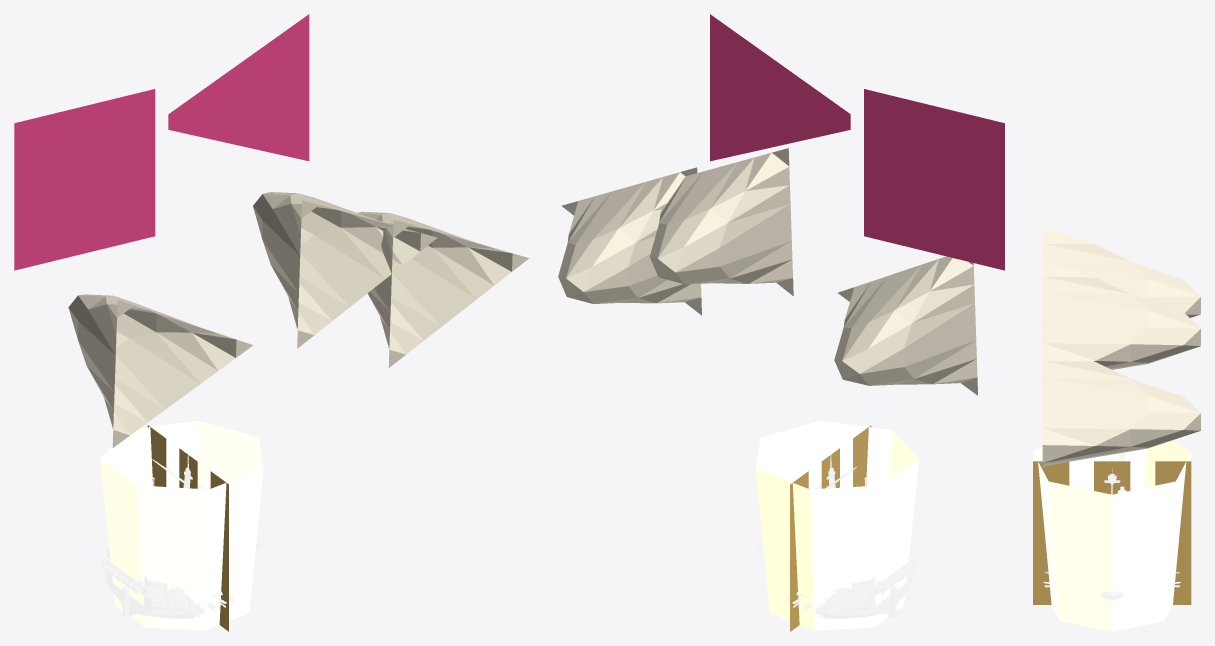
File: navire-chebec.glb
3 renders of one model, left to right at view 1: azimuth 30°, elevation 25°; view 2: azimuth 150°, elevation 25°; view 3: azimuth 270°, elevation 25°, orthographic. The views are drawn at different scales.
Parts seen in each view (by area): view 1: navire_lumieres.004, drapeau.009, voile_artimon.008, voile_grande.009, flamme.009, voile_misaine.009, navire_corps.009, navire_vitres.004; view 2: navire_lumieres.004, drapeau.009, voile_grande.009, voile_artimon.008, voile_misaine.009, flamme.009, navire_corps.009, navire_vitres.004; view 3: navire_lumieres.004, voile_misaine.009, voile_grande.009, navire_vitres.004, voile_artimon.008, navire_corps.009.
Boxes of the visible parts, bbox=[...] form: navire_lumieres.004: bbox=[100, 420, 263, 630]; drapeau.009: bbox=[14, 89, 155, 270]; voile_artimon.008: bbox=[68, 294, 253, 447]; voile_grande.009: bbox=[253, 192, 437, 348]; flamme.009: bbox=[168, 14, 309, 161]; voile_misaine.009: bbox=[357, 211, 529, 367]; navire_corps.009: bbox=[100, 455, 261, 619]; navire_vitres.004: bbox=[147, 425, 228, 631]; navire_lumieres.004: bbox=[755, 420, 919, 630]; drapeau.009: bbox=[864, 89, 1004, 270]; voile_grande.009: bbox=[649, 148, 793, 296]; voile_artimon.008: bbox=[834, 256, 977, 395]; voile_misaine.009: bbox=[558, 167, 701, 315]; flamme.009: bbox=[710, 14, 850, 161]; navire_corps.009: bbox=[757, 455, 918, 619]; navire_vitres.004: bbox=[790, 425, 871, 631]; navire_lumieres.004: bbox=[1033, 440, 1191, 631]; voile_misaine.009: bbox=[1042, 344, 1200, 467]; voile_grande.009: bbox=[1042, 260, 1200, 369]; navire_vitres.004: bbox=[1033, 461, 1191, 604]; voile_artimon.008: bbox=[1042, 226, 1200, 317]; navire_corps.009: bbox=[1043, 452, 1181, 600].
Size of the model in its own units: 6.81 by 7.58 by 2.12.
